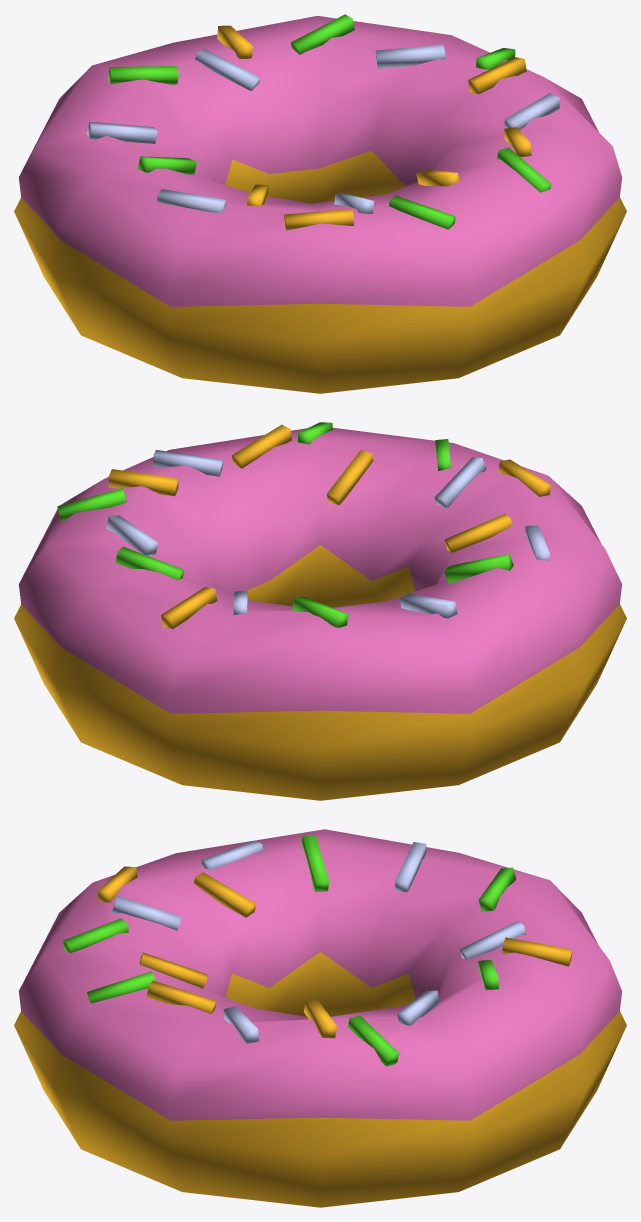
Rendered from donut1.fbx.
3 renders of one model, top to bottom at view 1: azimuth 30°, elevation 25°; view 2: azimuth 150°, elevation 25°; view 3: azimuth 270°, elevation 25°, orthographic.
Parts seen in each view (by area): view 1: donut1; view 2: donut1; view 3: donut1.
Part boxes in pixels (x1,y1,x2,y2): donut1: [14, 14, 626, 393]; donut1: [14, 422, 626, 800]; donut1: [14, 829, 626, 1207].
Size of the model in its own units: 0.5747 by 0.2039 by 0.5747.
